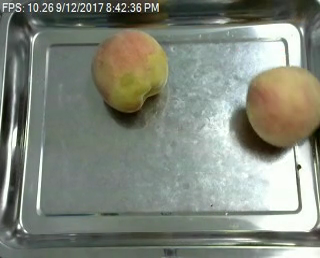Peach: (90, 28, 169, 114), (245, 65, 319, 147)
